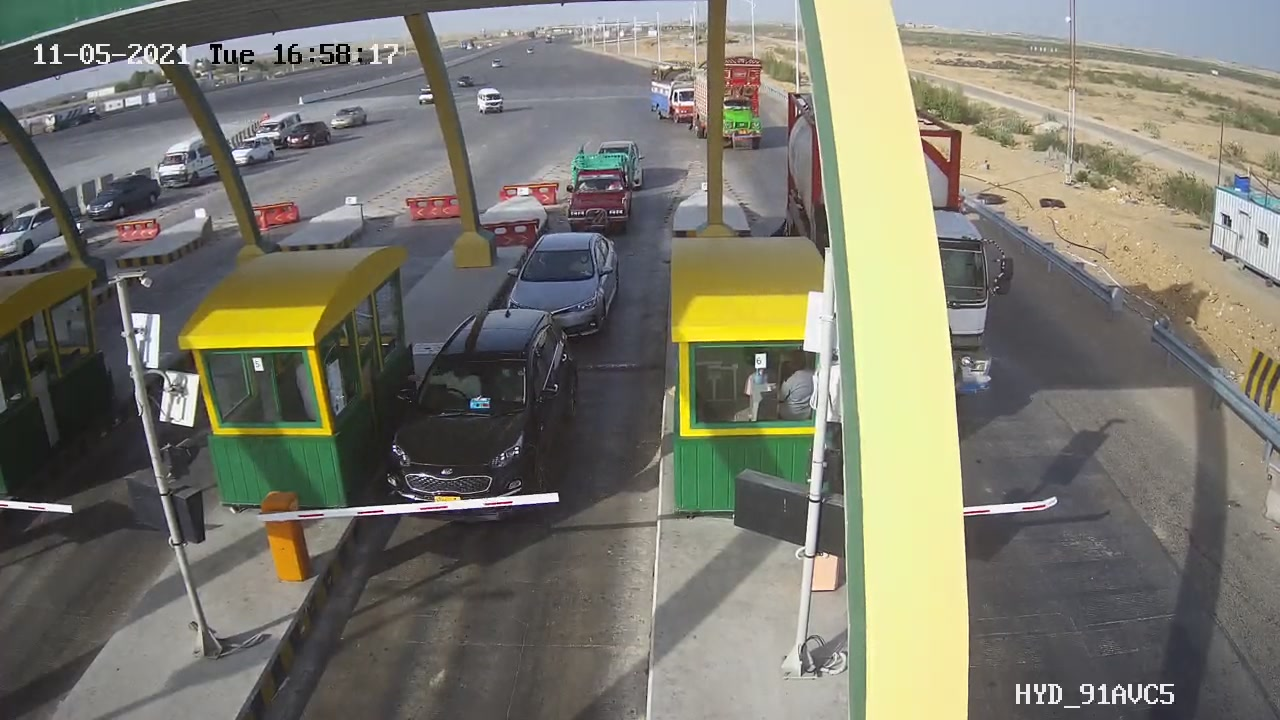F1: (368, 292, 597, 532), (493, 224, 636, 355)
